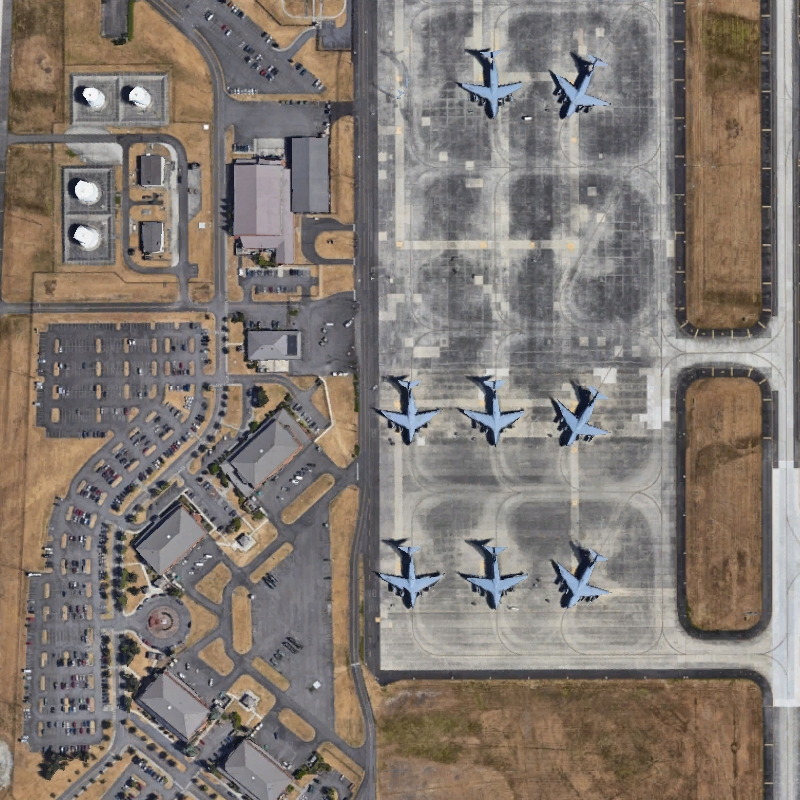A3: (452, 43, 526, 121), (374, 374, 445, 448), (459, 375, 529, 450), (460, 541, 531, 611), (376, 539, 444, 610), (549, 50, 614, 122), (550, 381, 615, 450), (550, 542, 615, 611)
